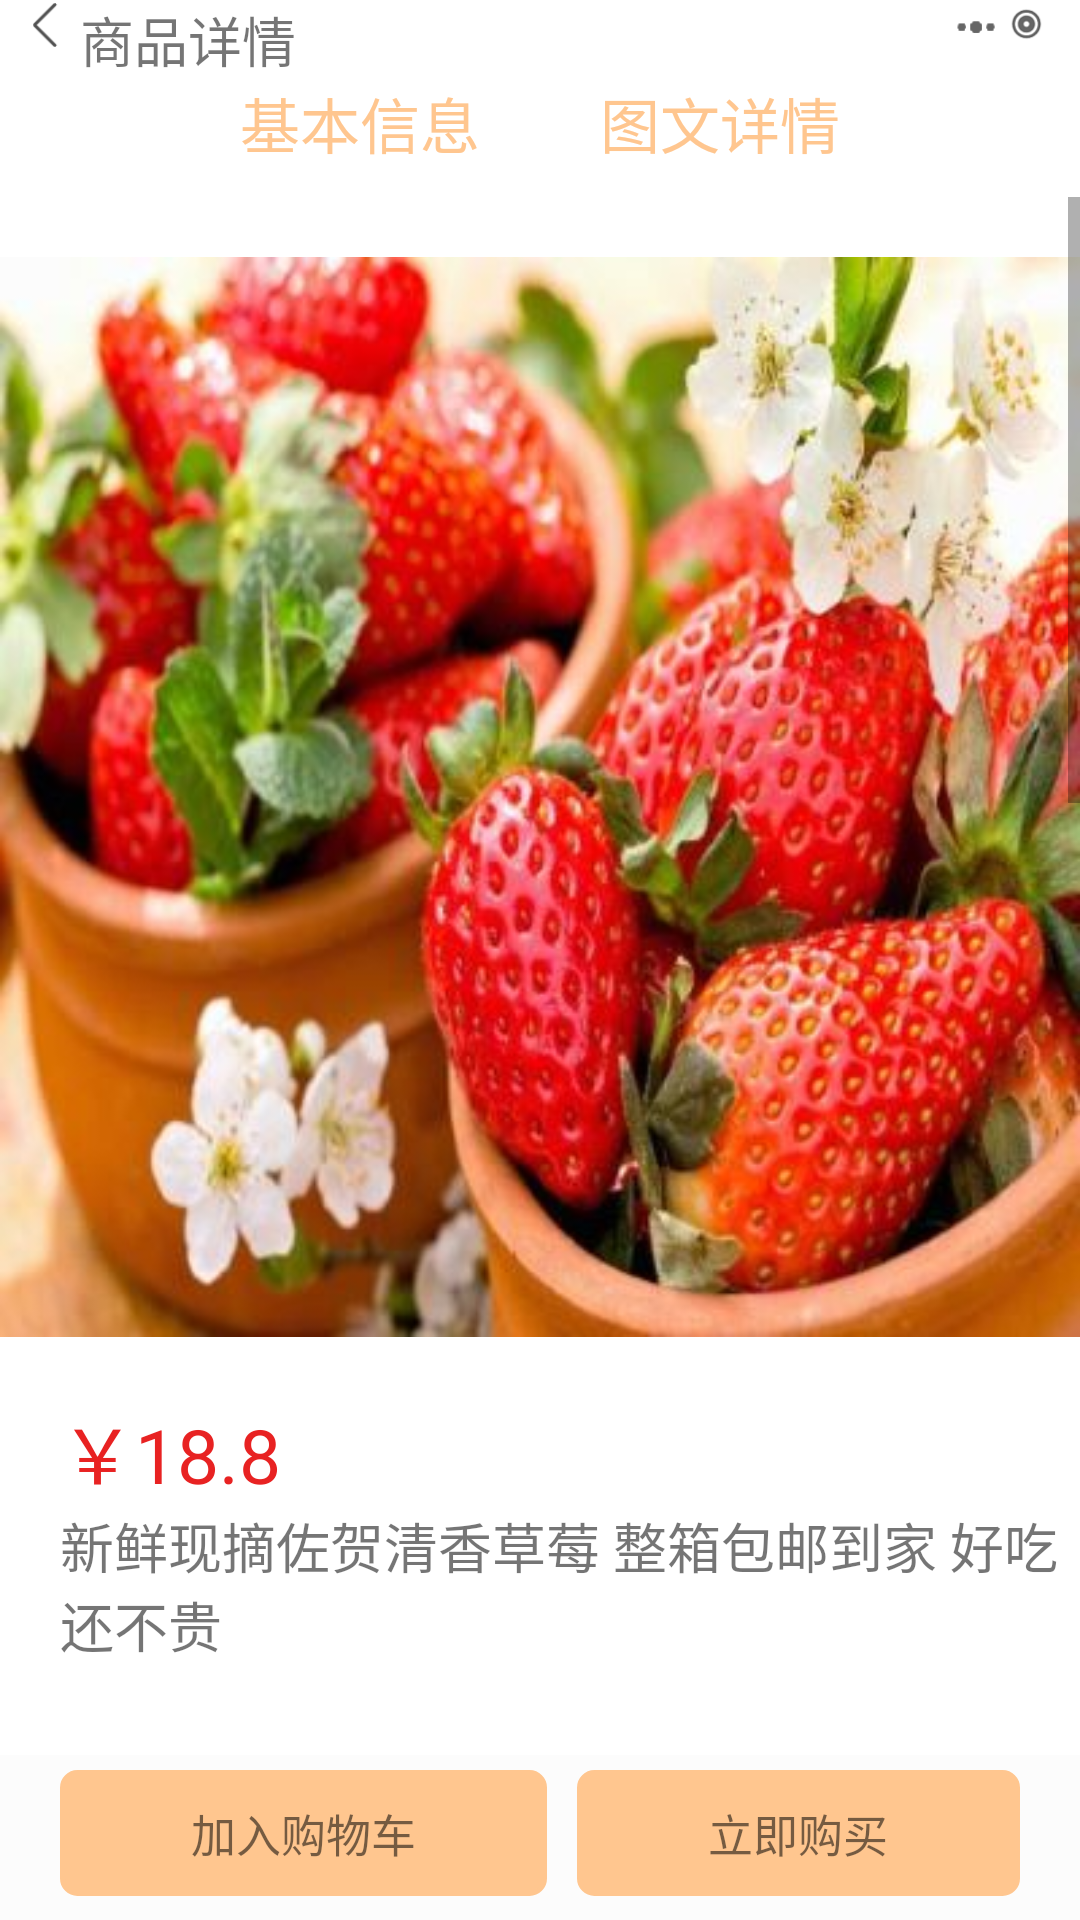

Point at icon controls on the screen. Image size 1080px×1920px, points as point (x, y).
fanhui: point (45, 25)
